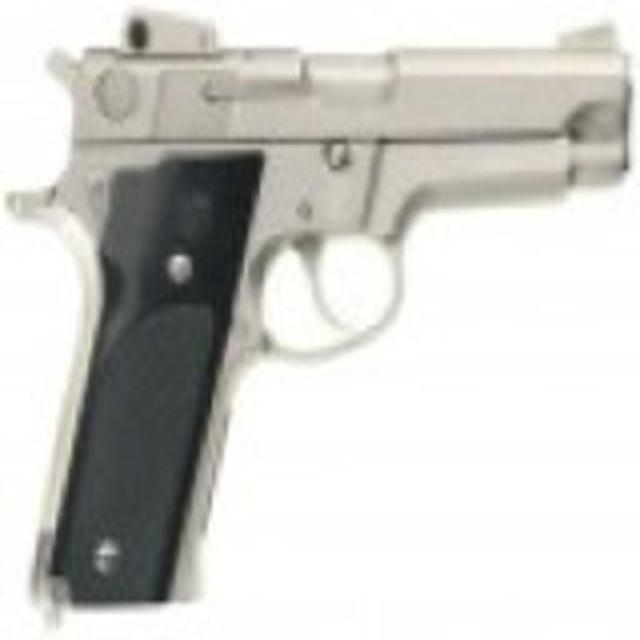pistol: (24, 5, 628, 602)
